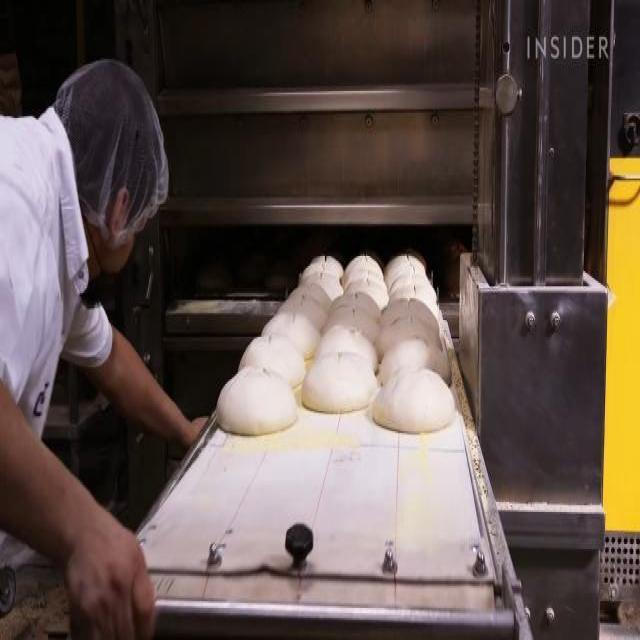bare_hand: (21, 472, 169, 640), (173, 389, 216, 473)
